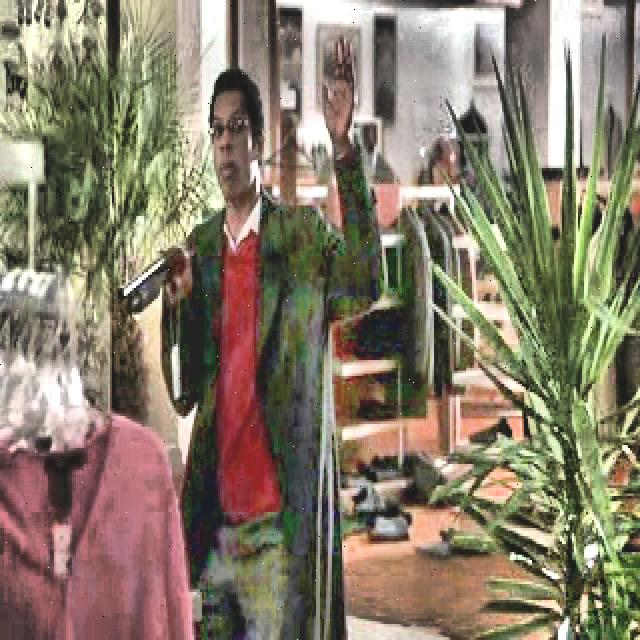L: (118, 42, 388, 636)
